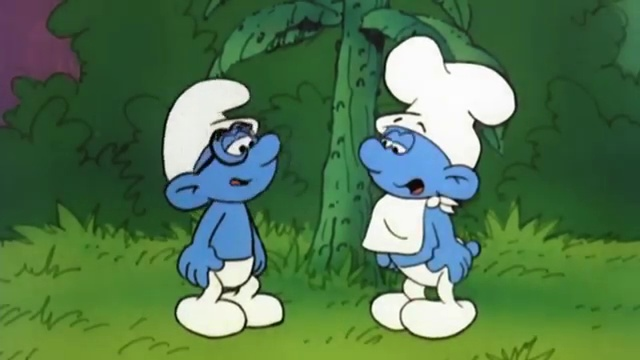smurf: (356, 36, 517, 341), (161, 79, 288, 338)
